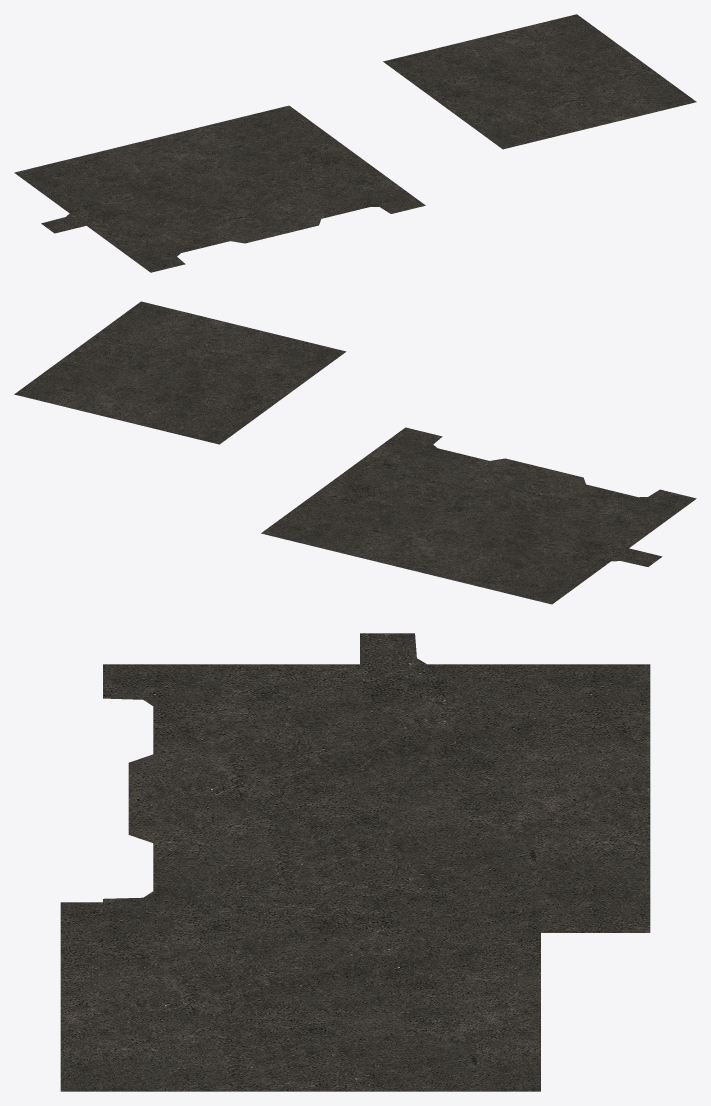
The model's file is Buildings_Roofs_01.fbx.
The picture shows the model from 3 angles, top to bottom: view 1: azimuth 30°, elevation 25°; view 2: azimuth 150°, elevation 25°; view 3: azimuth 270°, elevation 25°; orthographic projection. The views are drawn at different scales.
Parts seen in each view (by area): view 1: Building_010, Building_011; view 2: Building_010, Building_011; view 3: Building_010, Building_011.
Part boxes in pixels (x1=…): Building_010: x1=14, y1=105, x2=425, y2=272; Building_011: x1=383, y1=14, x2=696, y2=149; Building_010: x1=261, y1=427, x2=696, y2=604; Building_011: x1=14, y1=301, x2=346, y2=444; Building_010: x1=103, y1=633, x2=650, y2=932; Building_011: x1=60, y1=902, x2=540, y2=1091.
Bounding box in the file's own units: 58.59 × 4.71 × 26.35.
